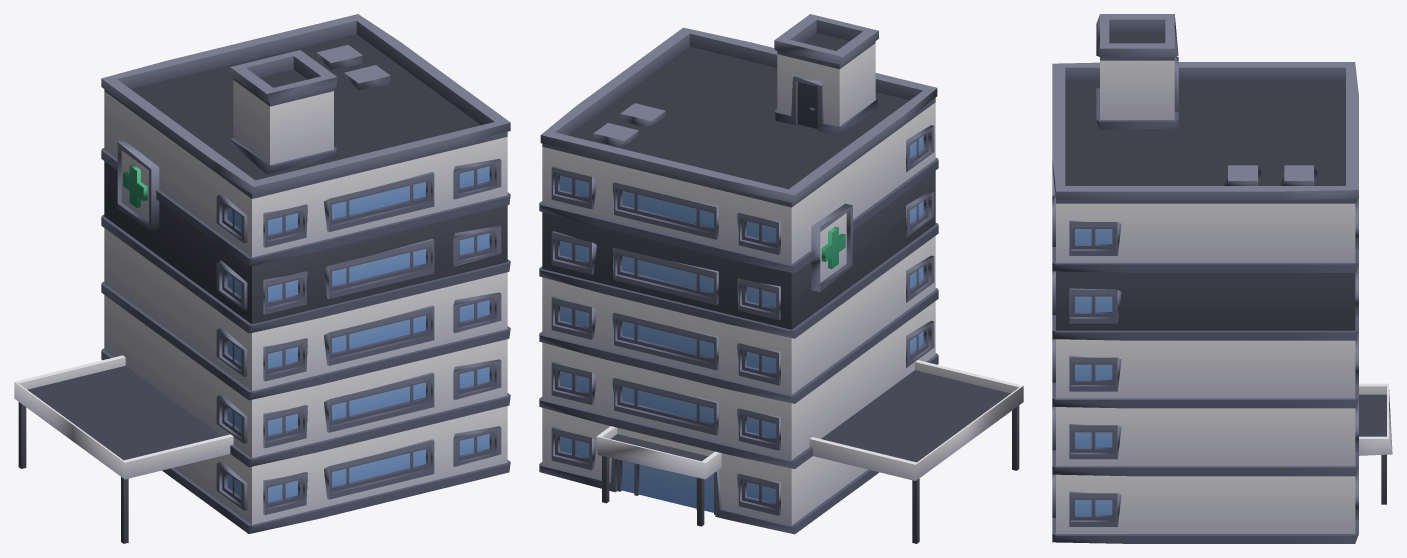
The model's file is 088_city-kit-commercial_building-n_card.glb.
The picture shows the model from 3 angles, left to right: view 1: azimuth 30°, elevation 25°; view 2: azimuth 150°, elevation 25°; view 3: azimuth 270°, elevation 25°; orthographic projection. The views are drawn at different scales.
Visible parts, largest first — view 1: building-n; view 2: building-n; view 3: building-n.
Boxes of the visible parts, x1,y1,x2,y2 form: building-n: (14,14,510,543); building-n: (539,14,1023,543); building-n: (1052,14,1392,543).
Bounding box in the file's own units: 2.3 × 2.48 × 1.82.
1 material, 1 textured.
